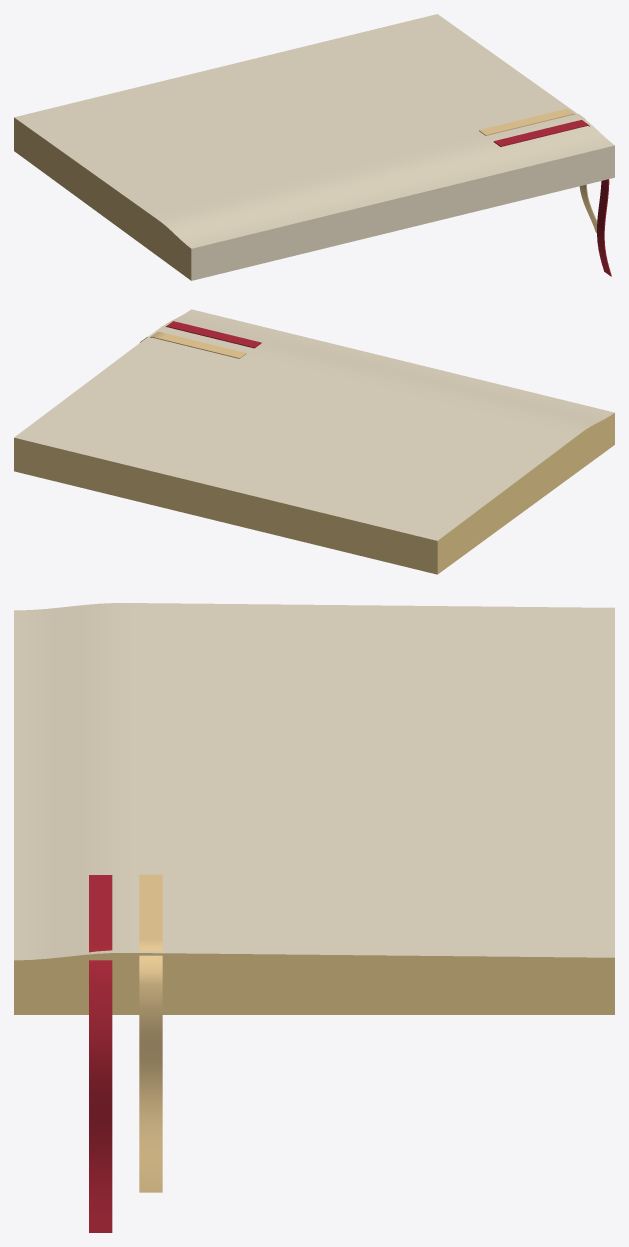
The model's file is SM_Grimoire_PagesRight.fbx.
The picture shows the model from 3 angles, top to bottom: view 1: azimuth 30°, elevation 25°; view 2: azimuth 150°, elevation 25°; view 3: azimuth 270°, elevation 25°; orthographic projection. The views are drawn at different scales.
Parts seen in each view (by area): view 1: SM_Grimoire_PagesRight; view 2: SM_Grimoire_PagesRight; view 3: SM_Grimoire_PagesRight.
Boxes of the visible parts, left/top/right/bottom form: SM_Grimoire_PagesRight: left=14, top=14, right=614, bottom=280; SM_Grimoire_PagesRight: left=14, top=309, right=614, bottom=574; SM_Grimoire_PagesRight: left=14, top=603, right=614, bottom=1232.
Bounding box in the file's own units: 26.29 × 8.82 × 18.
